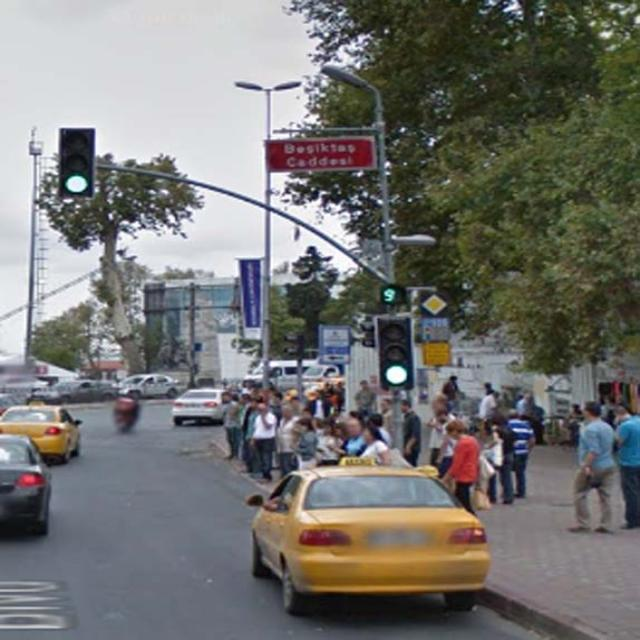yesil: (373, 316, 415, 387), (61, 129, 97, 195)
